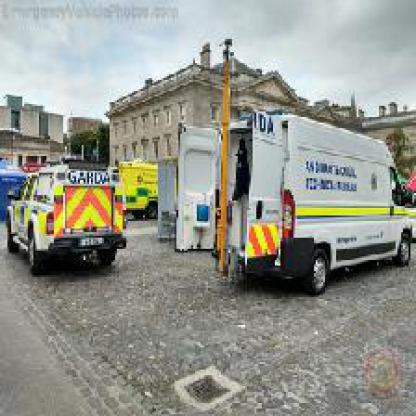emergency: (164, 110, 414, 295), (6, 160, 124, 276)
